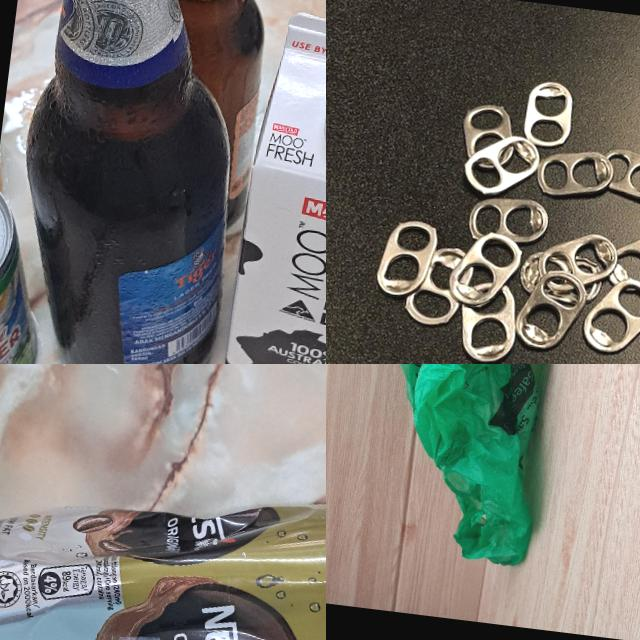aba de lata: (512, 266, 588, 355), (400, 241, 476, 330), (444, 226, 524, 310), (461, 129, 541, 200), (453, 278, 519, 364), (373, 216, 439, 301), (537, 228, 619, 294), (580, 273, 640, 359), (464, 193, 550, 248), (536, 144, 616, 202), (456, 100, 518, 170), (520, 77, 574, 148), (591, 144, 640, 204), (604, 227, 640, 294)
caixinha: (215, 5, 326, 364)
garrafa de vidro: (0, 0, 274, 364), (129, 0, 291, 234)
lata: (0, 452, 326, 640), (0, 175, 61, 364)
sacola plástica: (378, 364, 572, 571)
